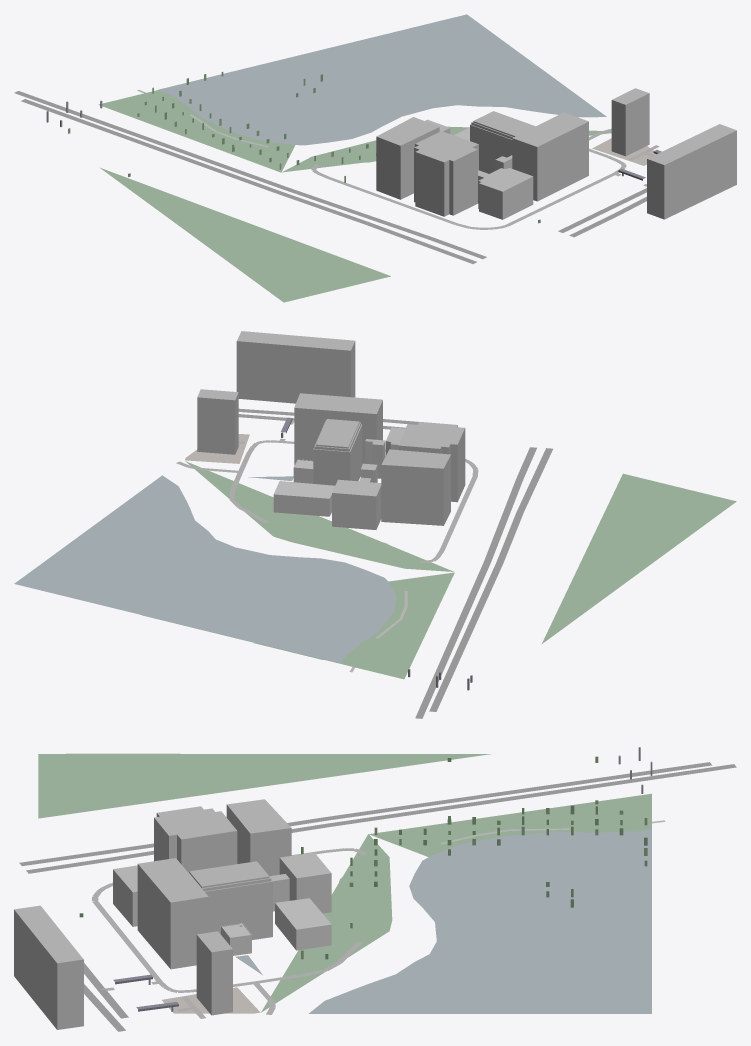
The picture shows the model from 3 angles, top to bottom: view 1: azimuth 30°, elevation 25°; view 2: azimuth 150°, elevation 25°; view 3: azimuth 270°, elevation 25°; orthographic projection. The views are drawn at different scales.
Bounding box in the file's own units: 536 × 61.33 × 589.
